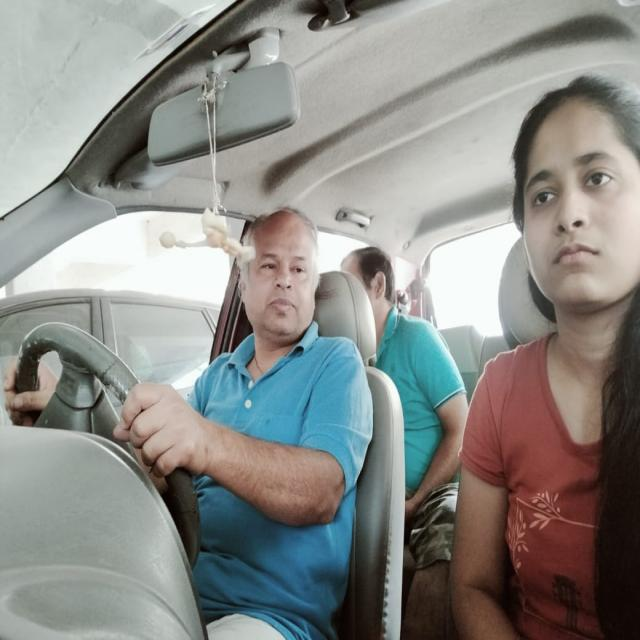LeftRight: (226, 204, 332, 355)
person: (500, 66, 640, 325), (342, 244, 401, 333)
